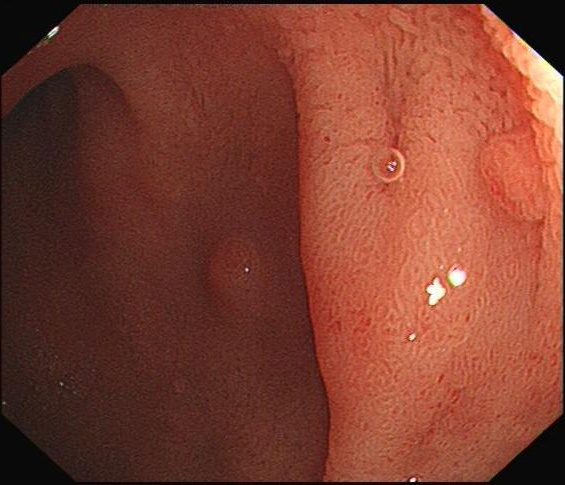Polyp: (475, 120, 552, 221), (199, 226, 276, 321)
